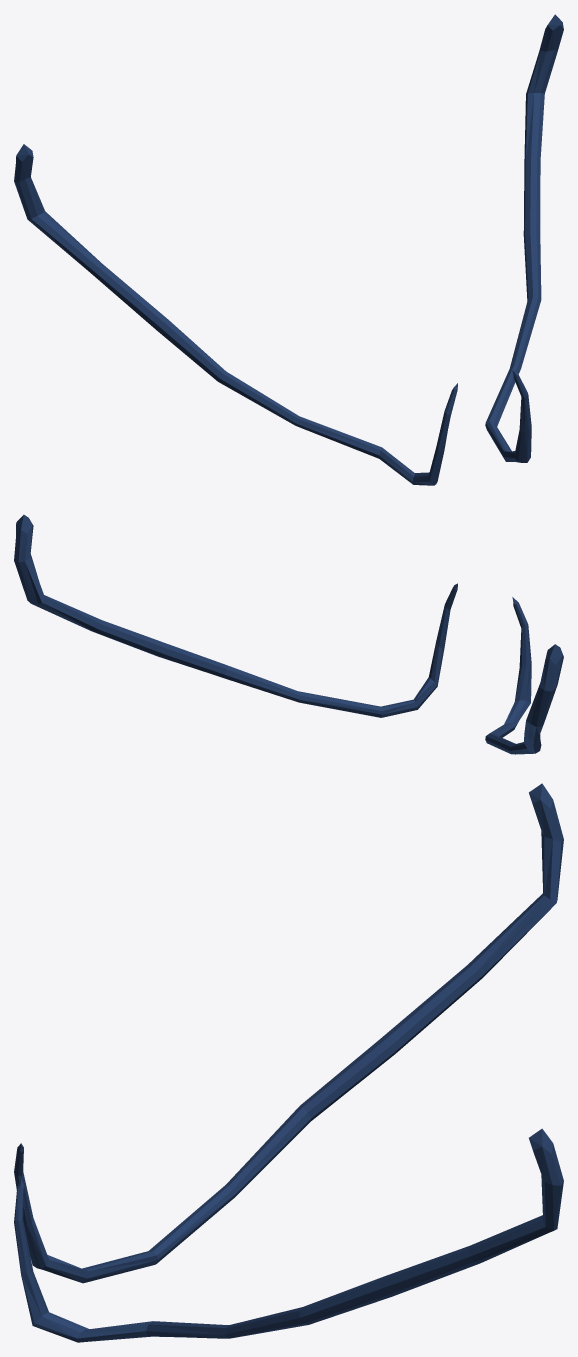
Rendered from Vena Submentoniana.FBX.
3 renders of one model, top to bottom at view 1: azimuth 30°, elevation 25°; view 2: azimuth 150°, elevation 25°; view 3: azimuth 270°, elevation 25°, orthographic. The views are drawn at different scales.
Visible parts, largest first — view 1: CS_Veins; view 2: CS_Veins; view 3: CS_Veins.
Part boxes in pixels (left/top/right/bottom): CS_Veins: left=14, top=14, right=563, bottom=485; CS_Veins: left=14, top=514, right=563, bottom=754; CS_Veins: left=14, top=783, right=563, bottom=1342.
Bounding box in the file's own units: 326 × 153 × 213.
